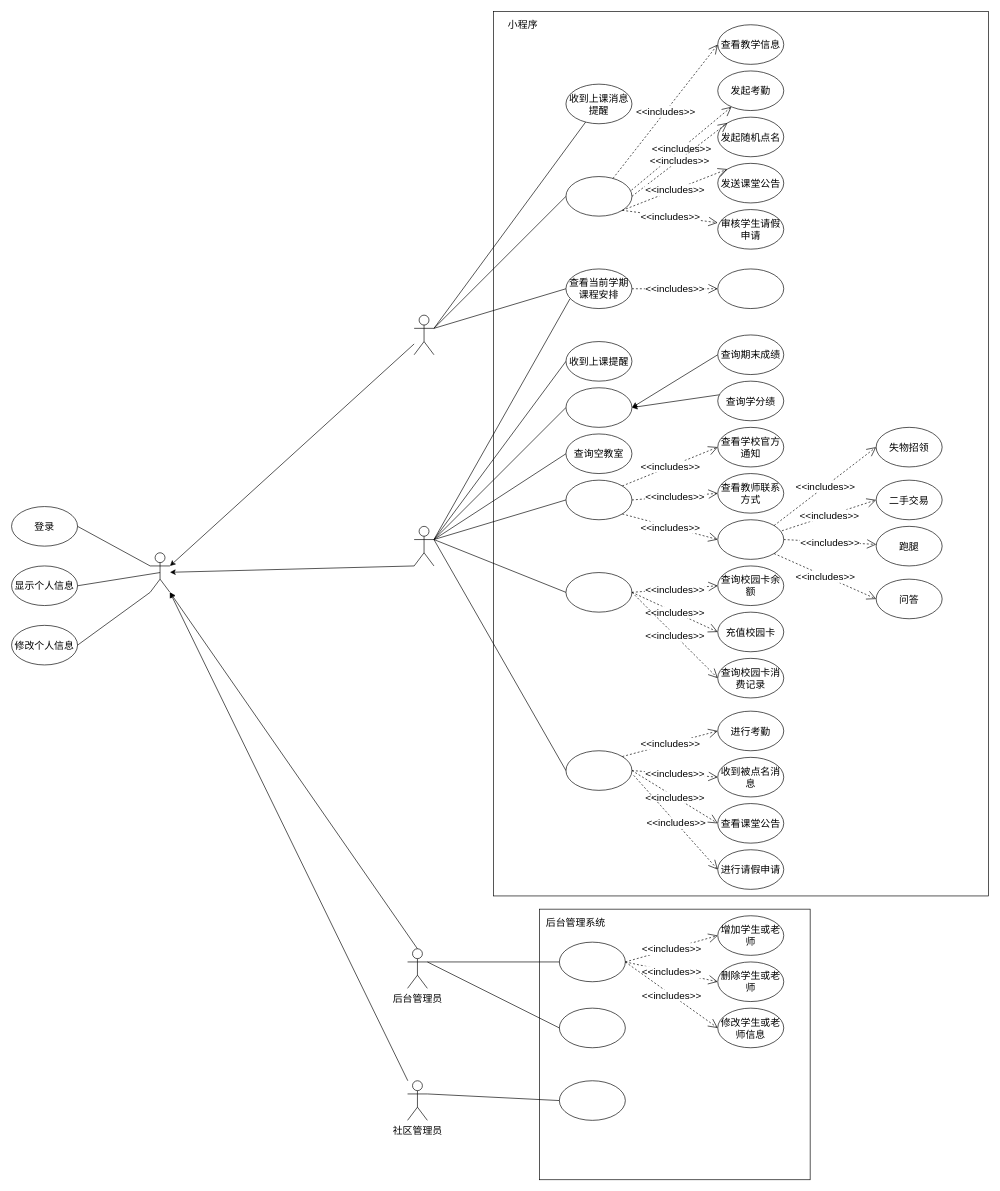
This 1000x1191 diagram has some shape labels left out. Here are the shapes that lost their labels. From the top down, the centre of each, then its label:
(x=598, y=196): 课堂管理
(x=750, y=288): 查看课程详细信息
(x=423, y=334): 教师
(x=598, y=407): 查询成绩
(x=598, y=499): 了解校园资讯
(x=423, y=546): 学生
(x=750, y=539): 进行校园社区活动
(x=159, y=572): 用户
(x=598, y=592): 进行校园卡服务
(x=598, y=770): 进行课堂服务
(x=592, y=961): 管理学生和教师
(x=592, y=1027): 发布学校通知
(x=592, y=1100): 审核校园社区板块信息
